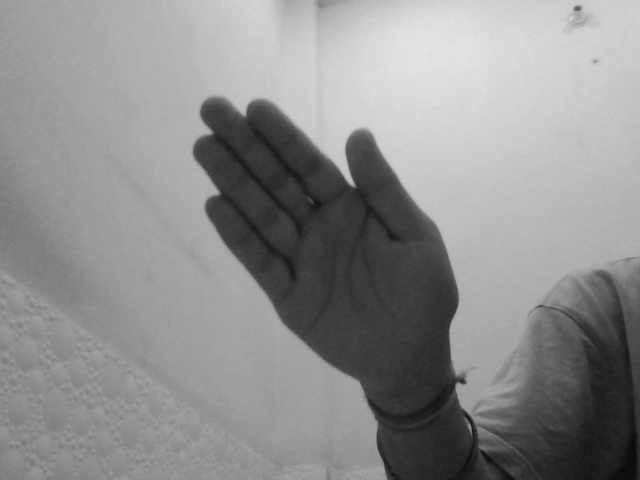Hello: (186, 93, 463, 397)
